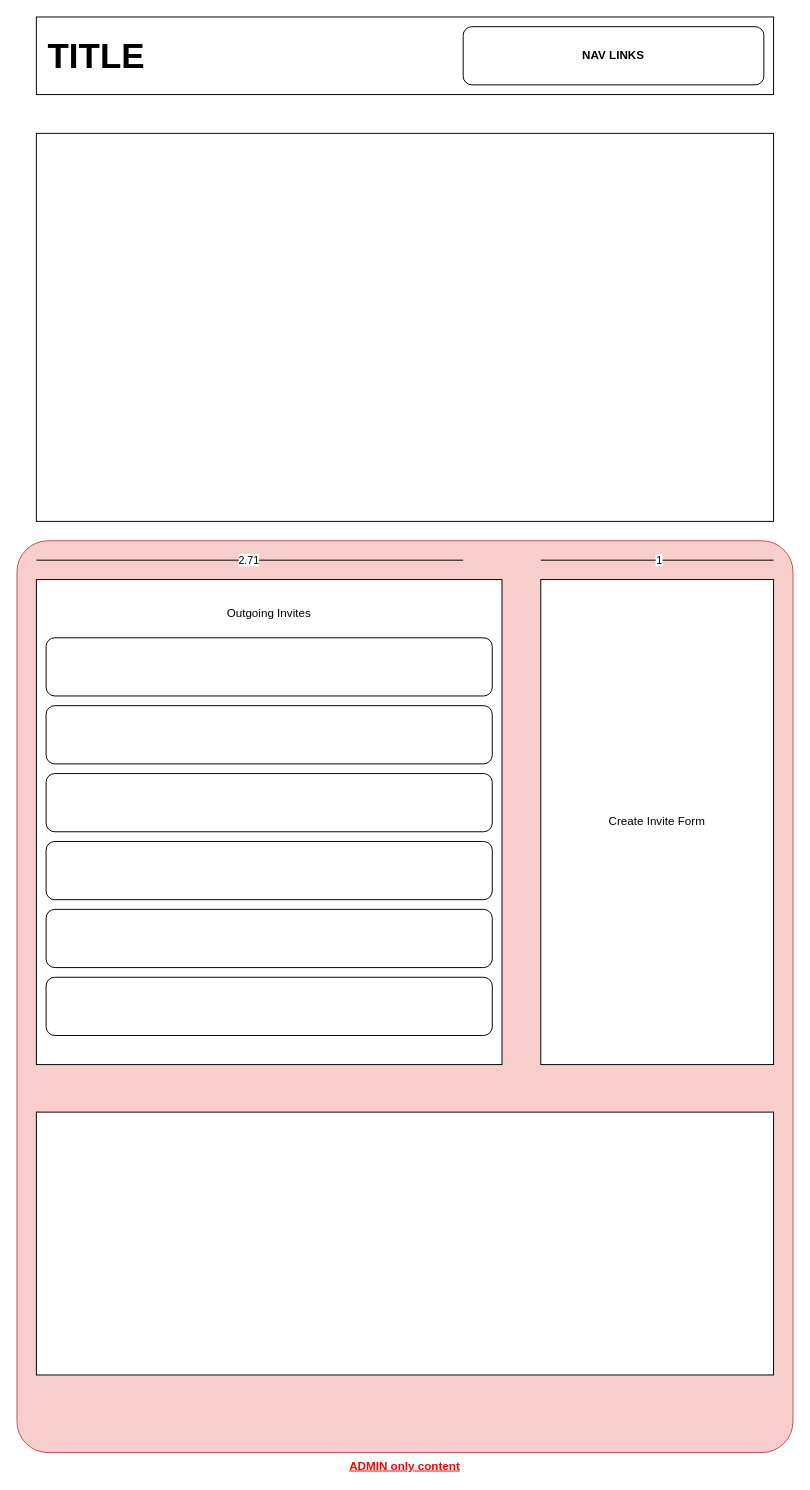
Some shapes in this 810 by 1490 pixel diagram are drawn without their labels. The shapes that lost their labels are listed below. From the top down, each one's centre as x and y in pixels, then its label:
pixel 404 326: Member Management Table
pixel 404 1243: "Danger Zone"
